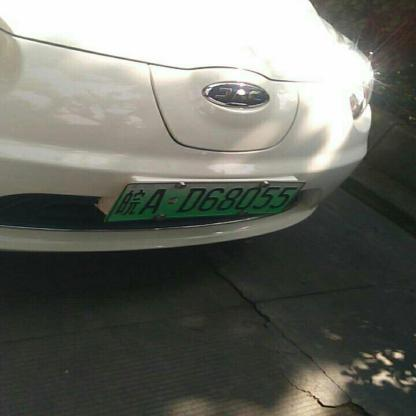lp: (105, 182, 308, 221)
